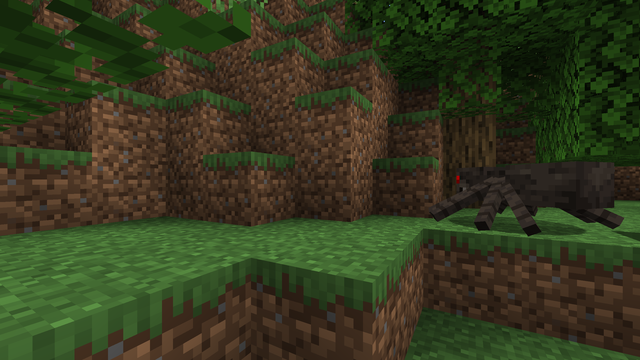araignees: (450, 153, 599, 238)
